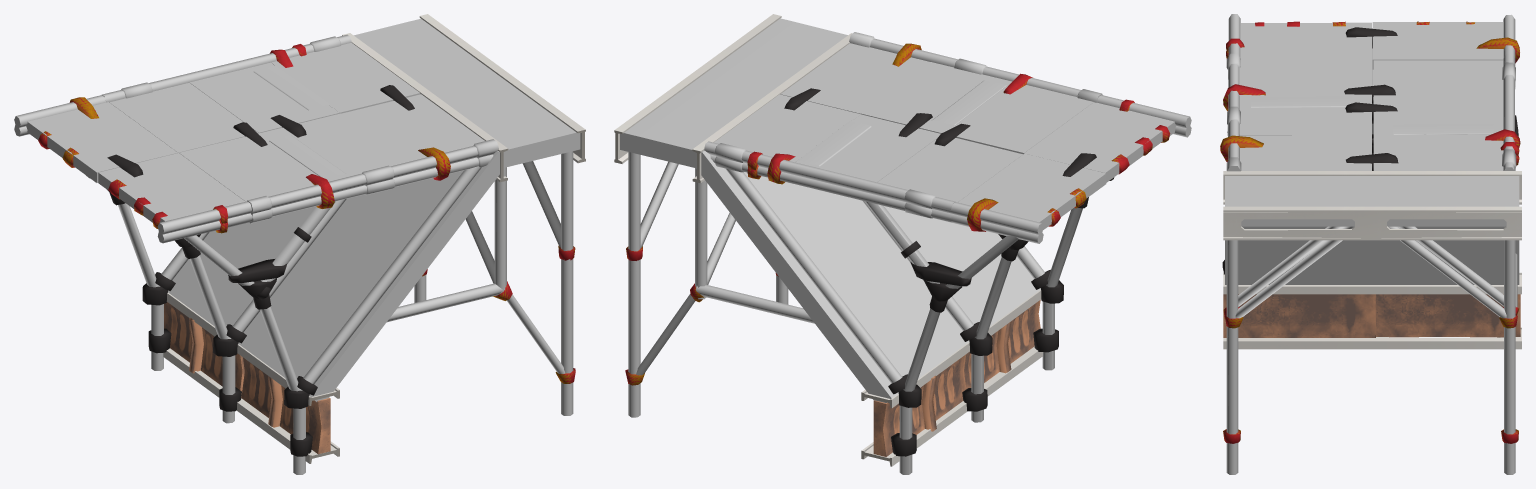
The model's file is builderRoofSlope.fbx.
3 renders of one model, left to right at view 1: azimuth 30°, elevation 25°; view 2: azimuth 150°, elevation 25°; view 3: azimuth 270°, elevation 25°, orthographic. The views are drawn at different scales.
Parts seen in each view (by area): view 1: builderRoofSlope_LOD0, builderRoofSlopeFrame_LOD0; view 2: builderRoofSlope_LOD0, builderRoofSlopeFrame_LOD0; view 3: builderRoofSlope_LOD0, builderRoofSlopeFrame_LOD0.
Part boxes in pixels (x1,y1,x2,y2): builderRoofSlope_LOD0: (14,18,580,474); builderRoofSlopeFrame_LOD0: (38,14,585,463); builderRoofSlope_LOD0: (620,18,1191,474); builderRoofSlopeFrame_LOD0: (614,14,1170,466); builderRoofSlope_LOD0: (1225,14,1519,474); builderRoofSlopeFrame_LOD0: (1220,21,1521,443).
Size of what is drawn, in the model's own units: 4.7 by 3.13 by 3.1.
